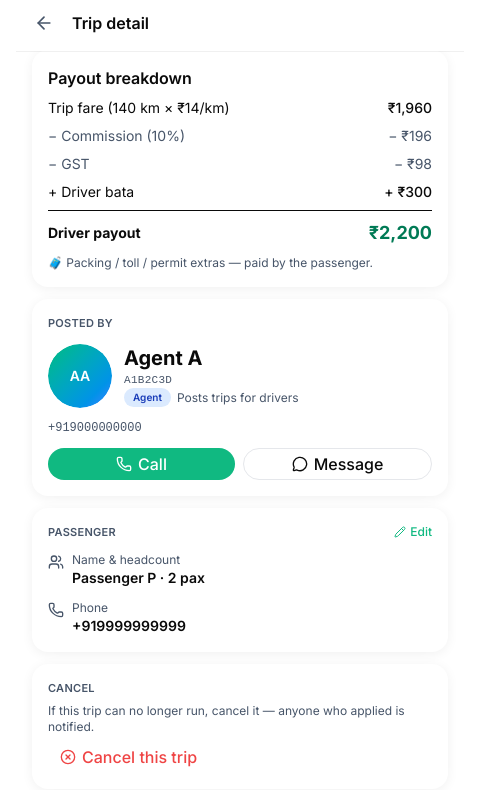
Test: TripDetailPage › shows a loading state for the cancellation-reasons select while it loads
(page scrolled)
Click the button "Cancel this trip": coordinates (129, 756) [48,740,209,772]
(page scrolled)
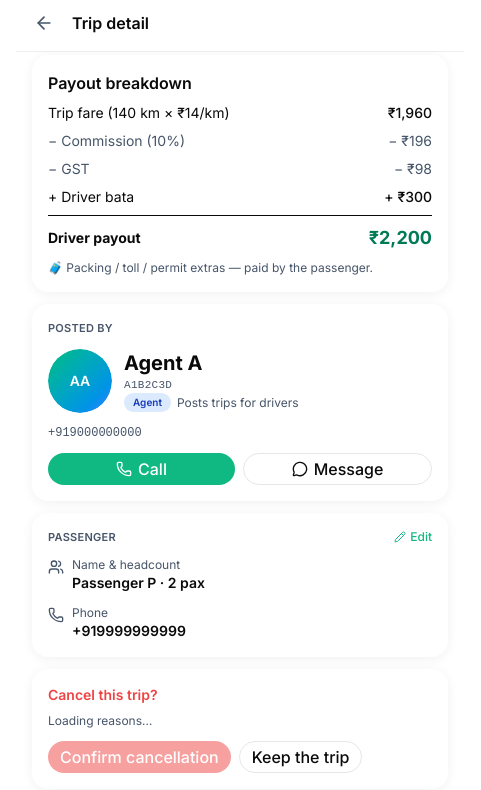
Check: the text "Loading reasons…" is shown, box [48,713,152,728]
